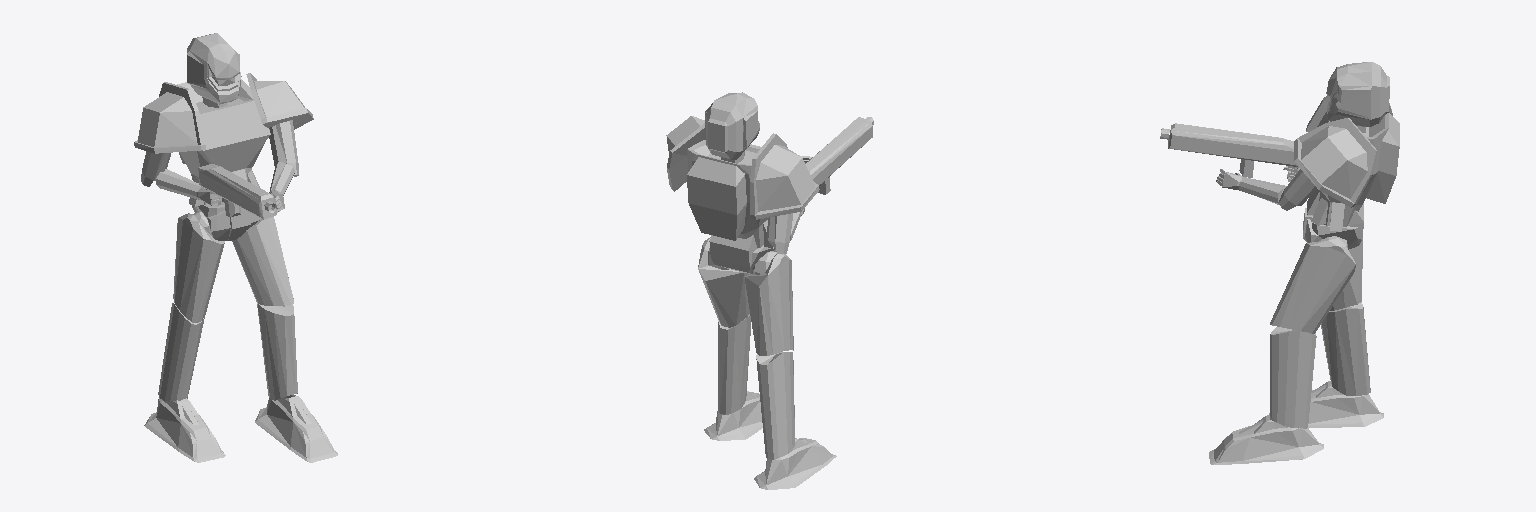
Rendered from robots_000004.obj.
3 views of the same model, side by side, from view 1: azimuth 30°, elevation 25°; view 2: azimuth 150°, elevation 25°; view 3: azimuth 270°, elevation 25° (orthographic).
Parts seen in each view (by area): view 1: Chest_plate_Cube.004, R_Thigh_Cube.005, Cube.002_Cube.059, R_Thigh.002_Cube.027, Head_base_Cube.022, R_Foot.002_Cube.035, R_Shin.002_Cube.029, R_Foot_Cube, R_Shin_Cube.007, Cube_Cube.001, Cube_Cube.021, Pelvis_Cube.006 (+4 smaller); view 2: Chest_plate_Cube.004, Cube.002_Cube.059, R_Thigh_Cube.005, R_Shin_Cube.007, Head_base_Cube.022, R_Shin.002_Cube.029, R_Thigh.002_Cube.027, R_Foot_Cube, Cube_Cube.001, Cube_Cube.021, R_Foot.002_Cube.035, Pelvis_Cube.006 (+1 smaller); view 3: Cube_Cube.021, R_Thigh.002_Cube.027, R_Shin.002_Cube.029, Cube_Cube.001, Chest_plate_Cube.004, R_Foot.002_Cube.035, R_Shin_Cube.007, Head_base_Cube.022, R_Foot_Cube, Pelvis_Cube.006, R_Thigh_Cube.005, L_Arm_Cube.014 (+1 smaller).
Part boxes in pixels (x1,y1,x2,y2): Chest_plate_Cube.004: (177,79,270,206); R_Thigh_Cube.005: (173,213,224,322); Cube.002_Cube.059: (134,82,205,153); R_Thigh.002_Cube.027: (232,217,293,306); Head_base_Cube.022: (187,33,241,104); R_Foot.002_Cube.035: (255,395,337,462); R_Shin.002_Cube.029: (257,303,297,400); R_Foot_Cube: (144,398,225,462); R_Shin_Cube.007: (158,303,204,401); Cube_Cube.001: (198,164,276,219); Cube_Cube.021: (246,73,313,129); Pelvis_Cube.006: (192,205,260,240); Chest_plate_Cube.004: (687,140,773,248); Cube.002_Cube.059: (750,133,819,219); R_Thigh_Cube.005: (745,254,793,355); R_Shin_Cube.007: (756,352,794,459); Head_base_Cube.022: (705,92,759,159); R_Shin.002_Cube.029: (718,314,750,414); R_Thigh.002_Cube.027: (698,237,749,327); R_Foot_Cube: (754,438,836,489); Cube_Cube.001: (805,117,873,194); Cube_Cube.021: (666,116,705,191); R_Foot.002_Cube.035: (704,391,762,440); Pelvis_Cube.006: (709,235,776,273); Cube_Cube.021: (1294,118,1377,207); R_Thigh.002_Cube.027: (1270,240,1355,333); R_Shin.002_Cube.029: (1270,327,1316,428); Cube_Cube.001: (1160,123,1298,178); Chest_plate_Cube.004: (1307,112,1399,231); R_Foot.002_Cube.035: (1209,415,1323,464); R_Shin_Cube.007: (1321,302,1370,395); Head_base_Cube.022: (1326,62,1389,126); R_Foot_Cube: (1269,381,1383,427); Pelvis_Cube.006: (1303,203,1363,249); R_Thigh_Cube.005: (1330,237,1362,310); L_Arm_Cube.014: (1279,169,1316,210).
Size of the model in its own units: 1.32 by 3.06 by 1.76.